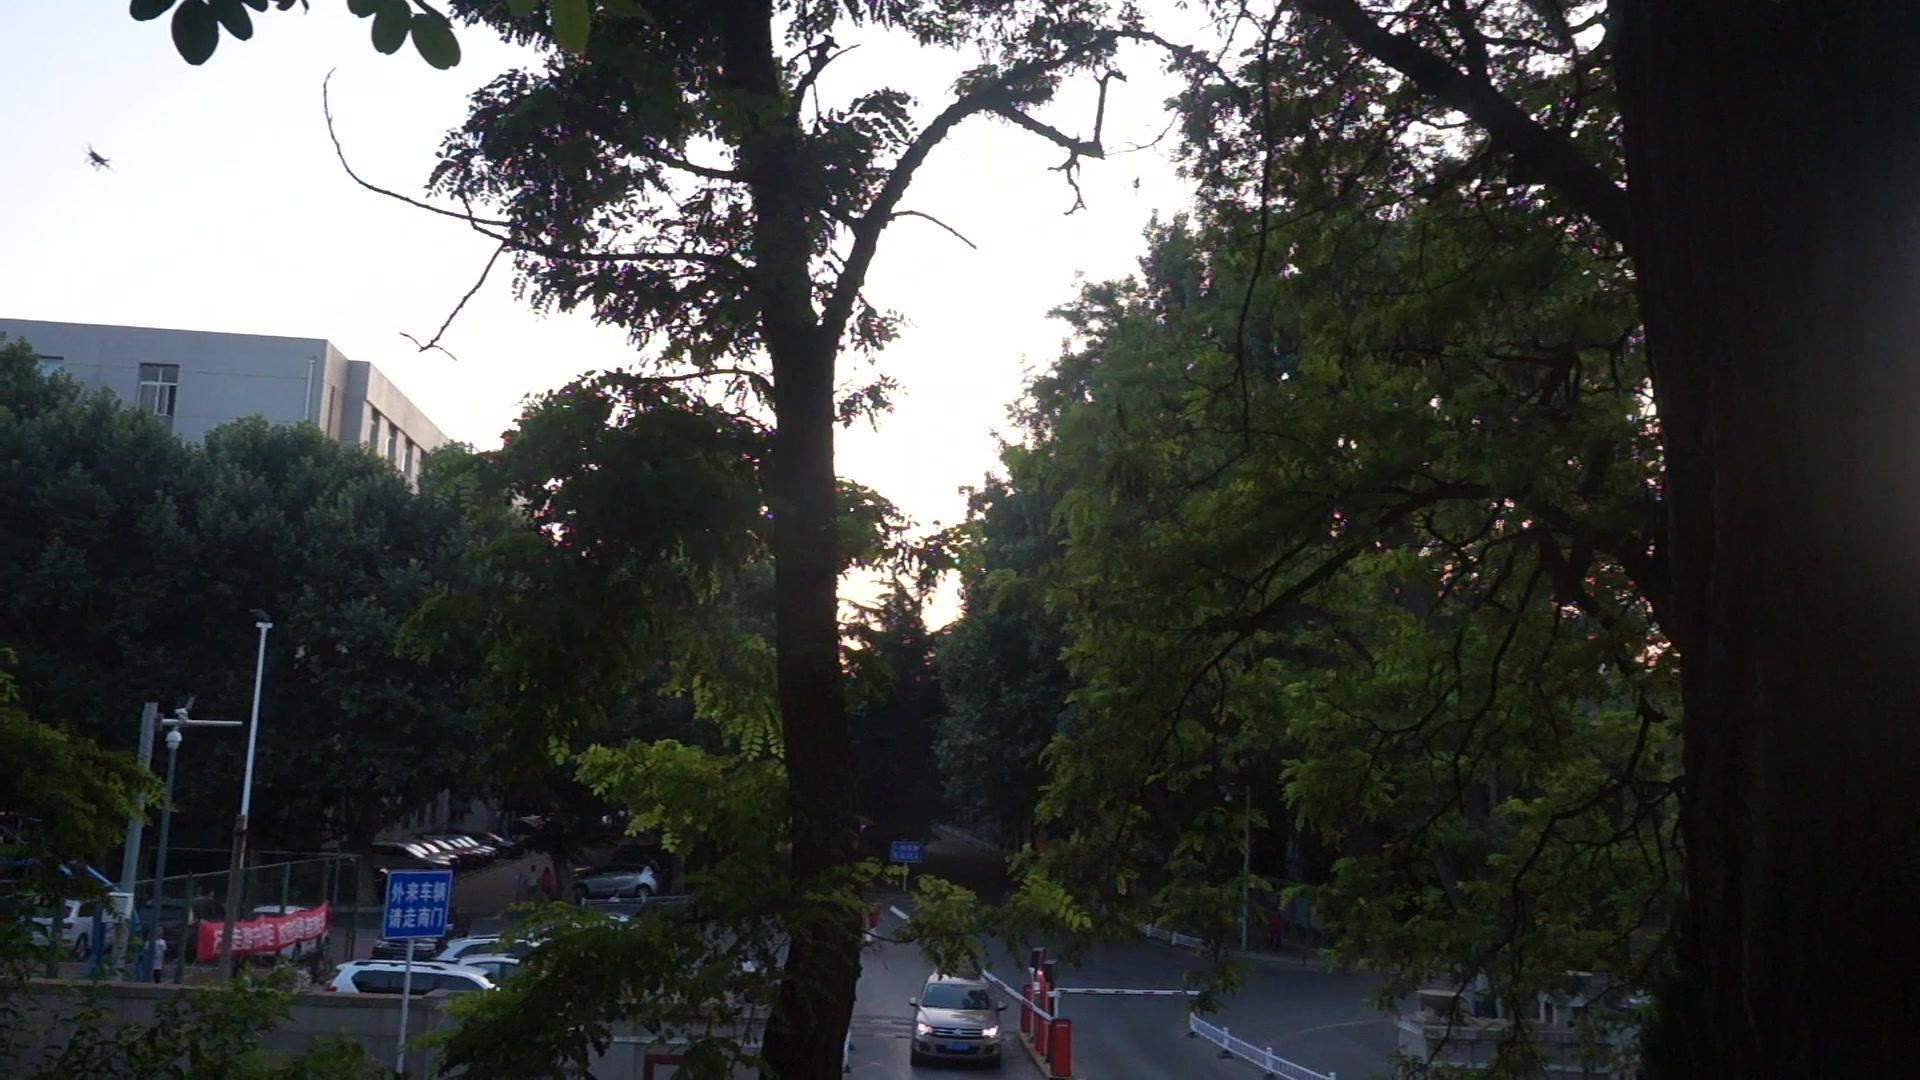UAV: (82, 144, 109, 171)
